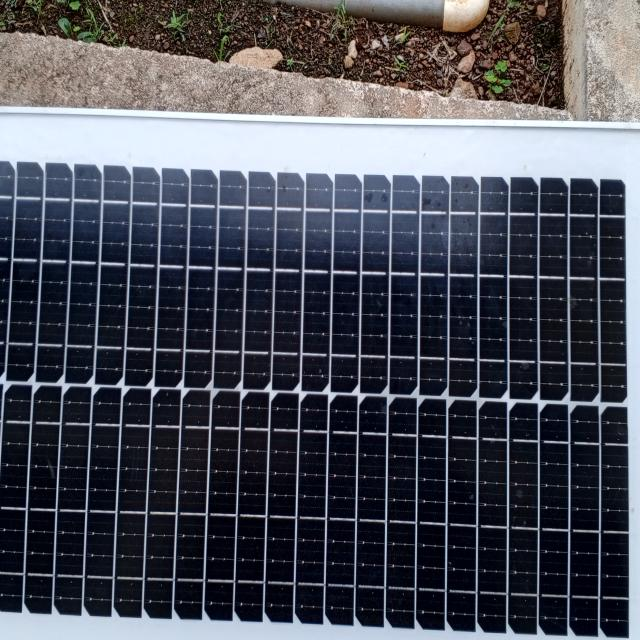Clean: (6, 127, 636, 640)
